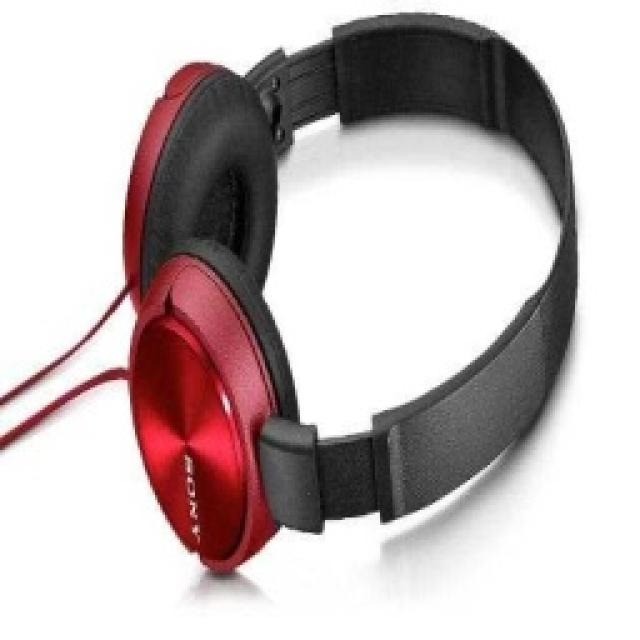headphones: (120, 8, 578, 572)
